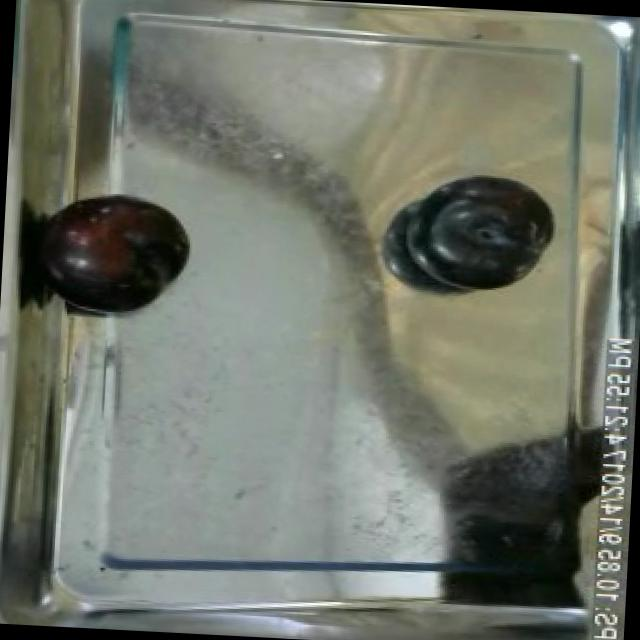Fruit: (34, 184, 200, 322), (396, 170, 556, 298)
